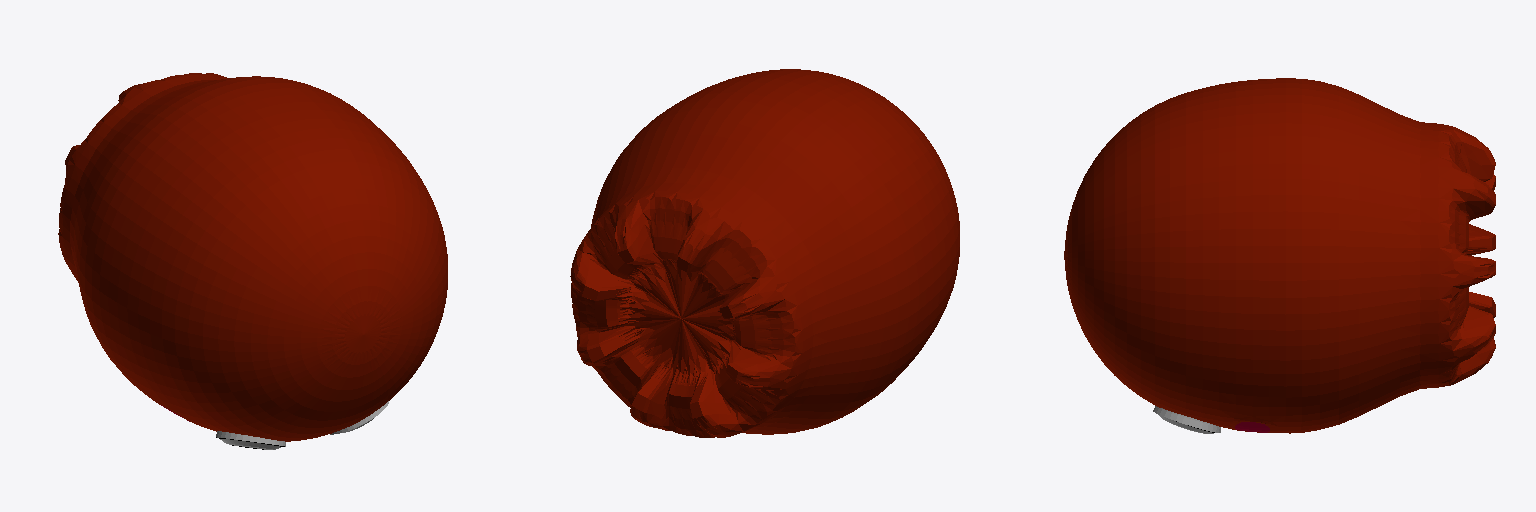
3 views of the same model, side by side, from view 1: azimuth 30°, elevation 25°; view 2: azimuth 150°, elevation 25°; view 3: azimuth 270°, elevation 25° (orthographic).
Visible parts, largest first — view 1: Sphere.002_Sphere.002_orange_blob, Sphere_Sphere_eye_white; view 2: Sphere.002_Sphere.002_orange_blob; view 3: Sphere.002_Sphere.002_orange_blob, Sphere_Sphere_eye_white.
Boxes of the visible parts, x1=… form: Sphere.002_Sphere.002_orange_blob: x1=58, y1=73, x2=447, y2=441; Sphere_Sphere_eye_white: x1=216, y1=401, x2=388, y2=449; Sphere.002_Sphere.002_orange_blob: x1=570, y1=69, x2=959, y2=437; Sphere.002_Sphere.002_orange_blob: x1=1064, y1=78, x2=1495, y2=433; Sphere_Sphere_eye_white: x1=1153, y1=406, x2=1220, y2=433.
Bounding box in the file's own units: 10.33 × 10.35 × 12.55.